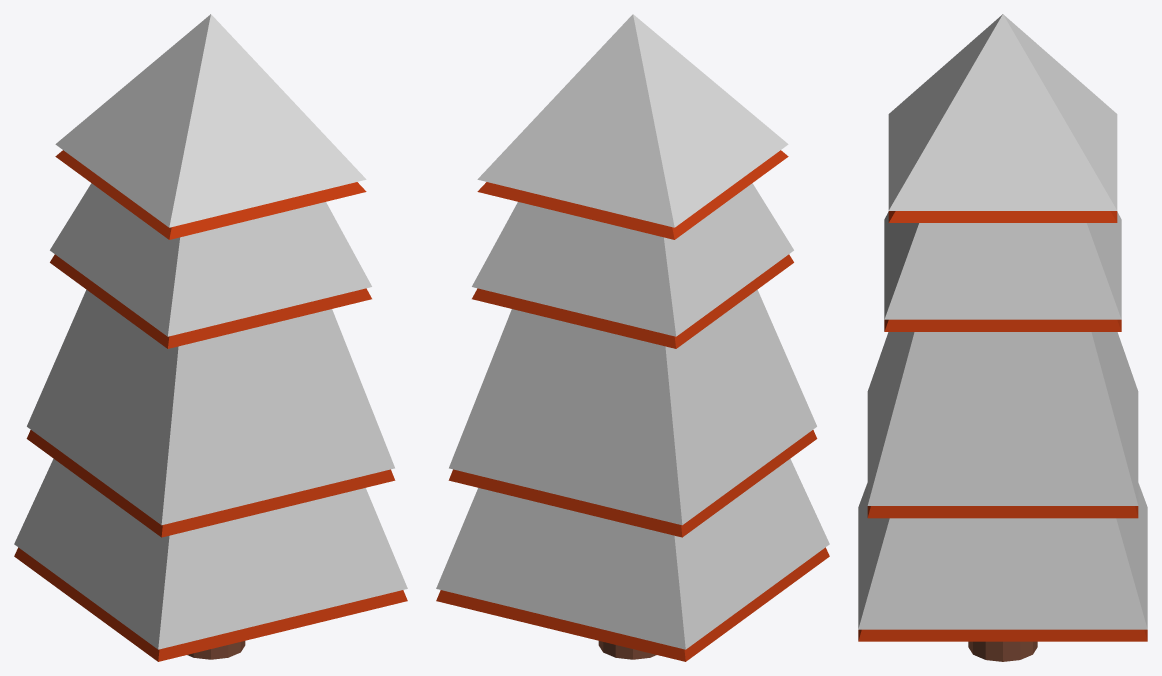
Rendered from Tree_17_winter_red_mat.fbx.
The picture shows the model from 3 angles, left to right: view 1: azimuth 30°, elevation 25°; view 2: azimuth 150°, elevation 25°; view 3: azimuth 270°, elevation 25°; orthographic projection.
Parts seen in each view (by area): view 1: Tree_17_winter_red_mat; view 2: Tree_17_winter_red_mat; view 3: Tree_17_winter_red_mat.
Boxes of the visible parts, x1,y1,x2,y2 form: Tree_17_winter_red_mat: [14, 14, 407, 661]; Tree_17_winter_red_mat: [436, 14, 829, 661]; Tree_17_winter_red_mat: [858, 14, 1147, 661].
Bounding box in the file's own units: 65.5 × 158 × 65.5.
